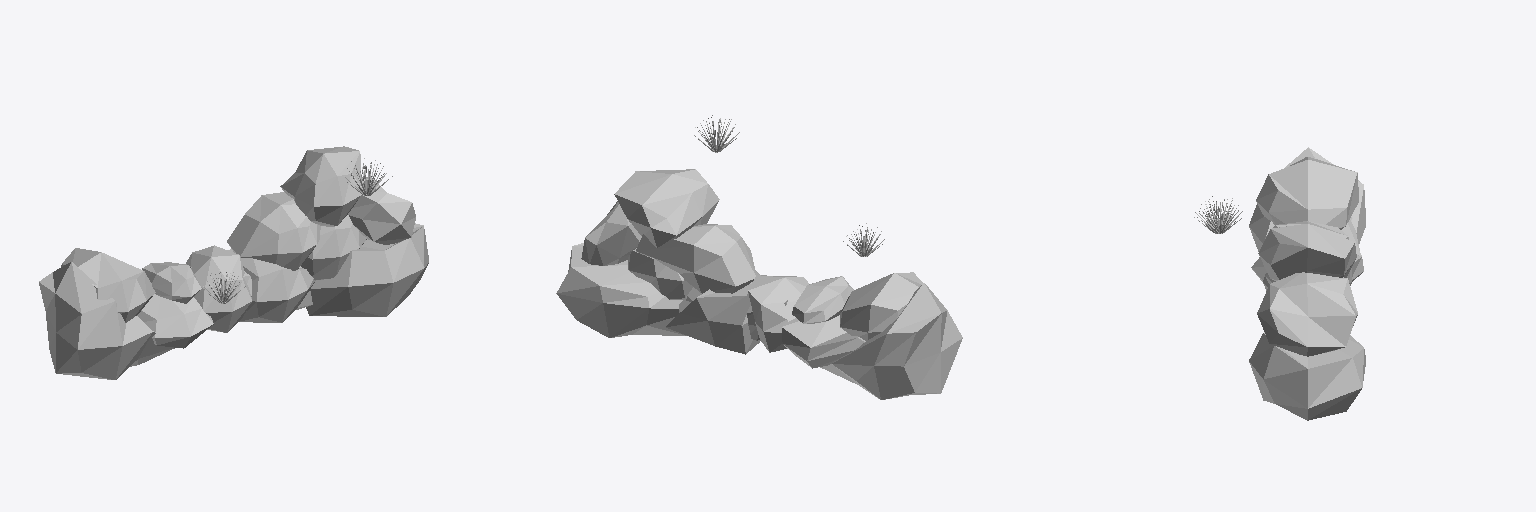
Rendered from Land5.obj.
3 renders of one model, left to right at view 1: azimuth 30°, elevation 25°; view 2: azimuth 150°, elevation 25°; view 3: azimuth 270°, elevation 25°, orthographic.
Visible parts, largest first — view 1: group1 pCube15, group1 pCube3, pCube8 group1, group1 pCube5, group1 pCube9, group1 pCube11, group1 pCube14, group1 pCube4, group1 pCube12, group1 pCube6, group1 pCube13, group1 pSphere1; view 2: group1 pCube15, group1 pCube3, group1 pCube5, pCube8 group1, group1 pCube9, group1 pCube14, group1 pCube11, group1 pCube12, group1 pCube4, group1 pCube13, group1 pCube6; view 3: group1 pCube3, group1 pCube4, group1 pCube14, group1 pCube5, group1 pCube15, group1 pCube12, group1 pSphere1.
Part boxes in pixels (left/top/right/bottom): group1 pCube15: left=39, top=262, right=174, bottom=379; group1 pCube3: left=306, top=223, right=428, bottom=316; pCube8 group1: left=227, top=192, right=320, bottom=270; group1 pCube5: left=280, top=146, right=360, bottom=226; group1 pCube9: left=228, top=249, right=314, bottom=322; group1 pCube11: left=186, top=245, right=251, bottom=332; group1 pCube14: left=61, top=248, right=155, bottom=322; group1 pCube4: left=348, top=177, right=415, bottom=244; group1 pCube12: left=137, top=294, right=213, bottom=348; group1 pCube6: left=301, top=215, right=366, bottom=280; group1 pCube13: left=142, top=262, right=201, bottom=303; group1 pSphere1: left=344, top=158, right=392, bottom=195; group1 pCube15: left=820, top=283, right=962, bottom=399; group1 pCube3: left=556, top=243, right=686, bottom=337; group1 pCube5: left=614, top=169, right=719, bottom=247; pCube8 group1: left=636, top=224, right=755, bottom=293; group1 pCube9: left=666, top=270, right=760, bottom=354; group1 pCube14: left=840, top=272, right=922, bottom=340; group1 pCube11: left=748, top=275, right=808, bottom=352; group1 pCube12: left=782, top=315, right=865, bottom=368; group1 pCube4: left=581, top=201, right=641, bottom=265; group1 pCube13: left=792, top=276, right=853, bottom=323; group1 pCube6: left=628, top=248, right=694, bottom=299; group1 pCube3: left=1249, top=332, right=1365, bottom=420; group1 pCube4: left=1257, top=272, right=1357, bottom=356; group1 pCube14: left=1256, top=157, right=1358, bottom=229; group1 pCube5: left=1258, top=224, right=1356, bottom=280; group1 pCube15: left=1249, top=147, right=1365, bottom=251; group1 pCube12: left=1251, top=220, right=1363, bottom=281; group1 pSphere1: left=1197, top=196, right=1242, bottom=233.
Bounding box in the file's own units: 5.4 × 2.72 × 2.16.